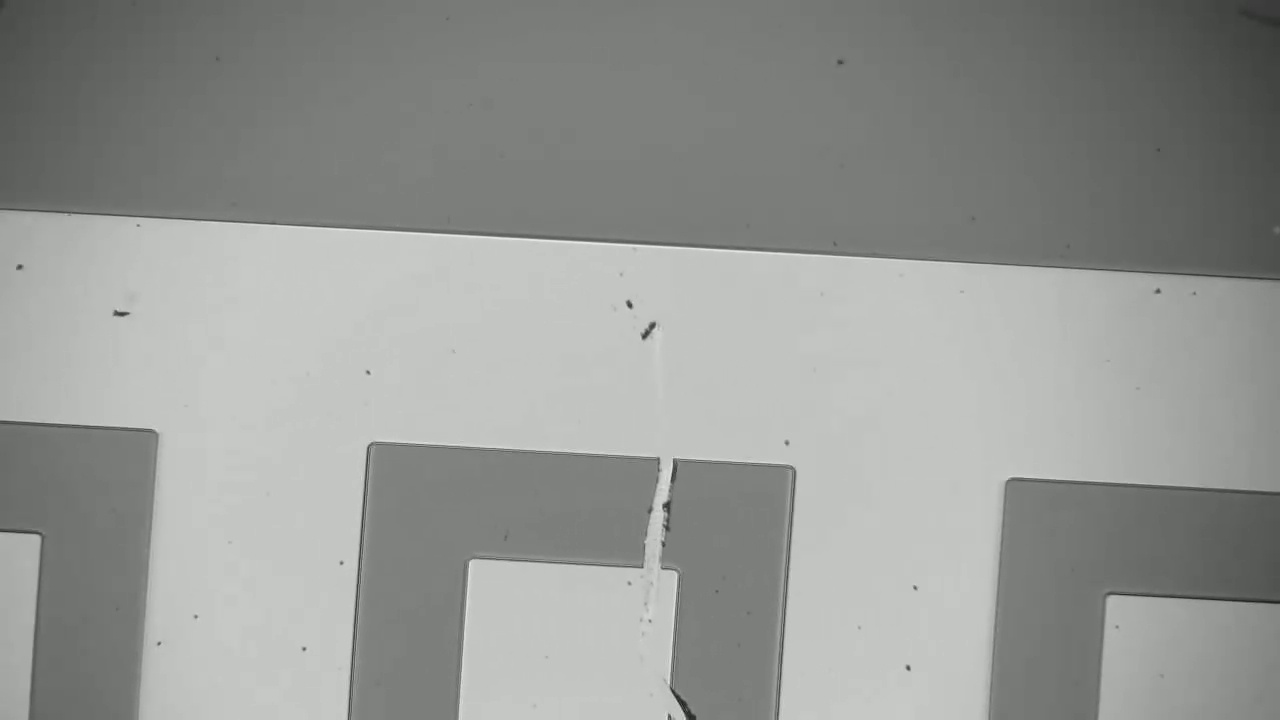Short_circuit: (620, 439, 689, 599)
